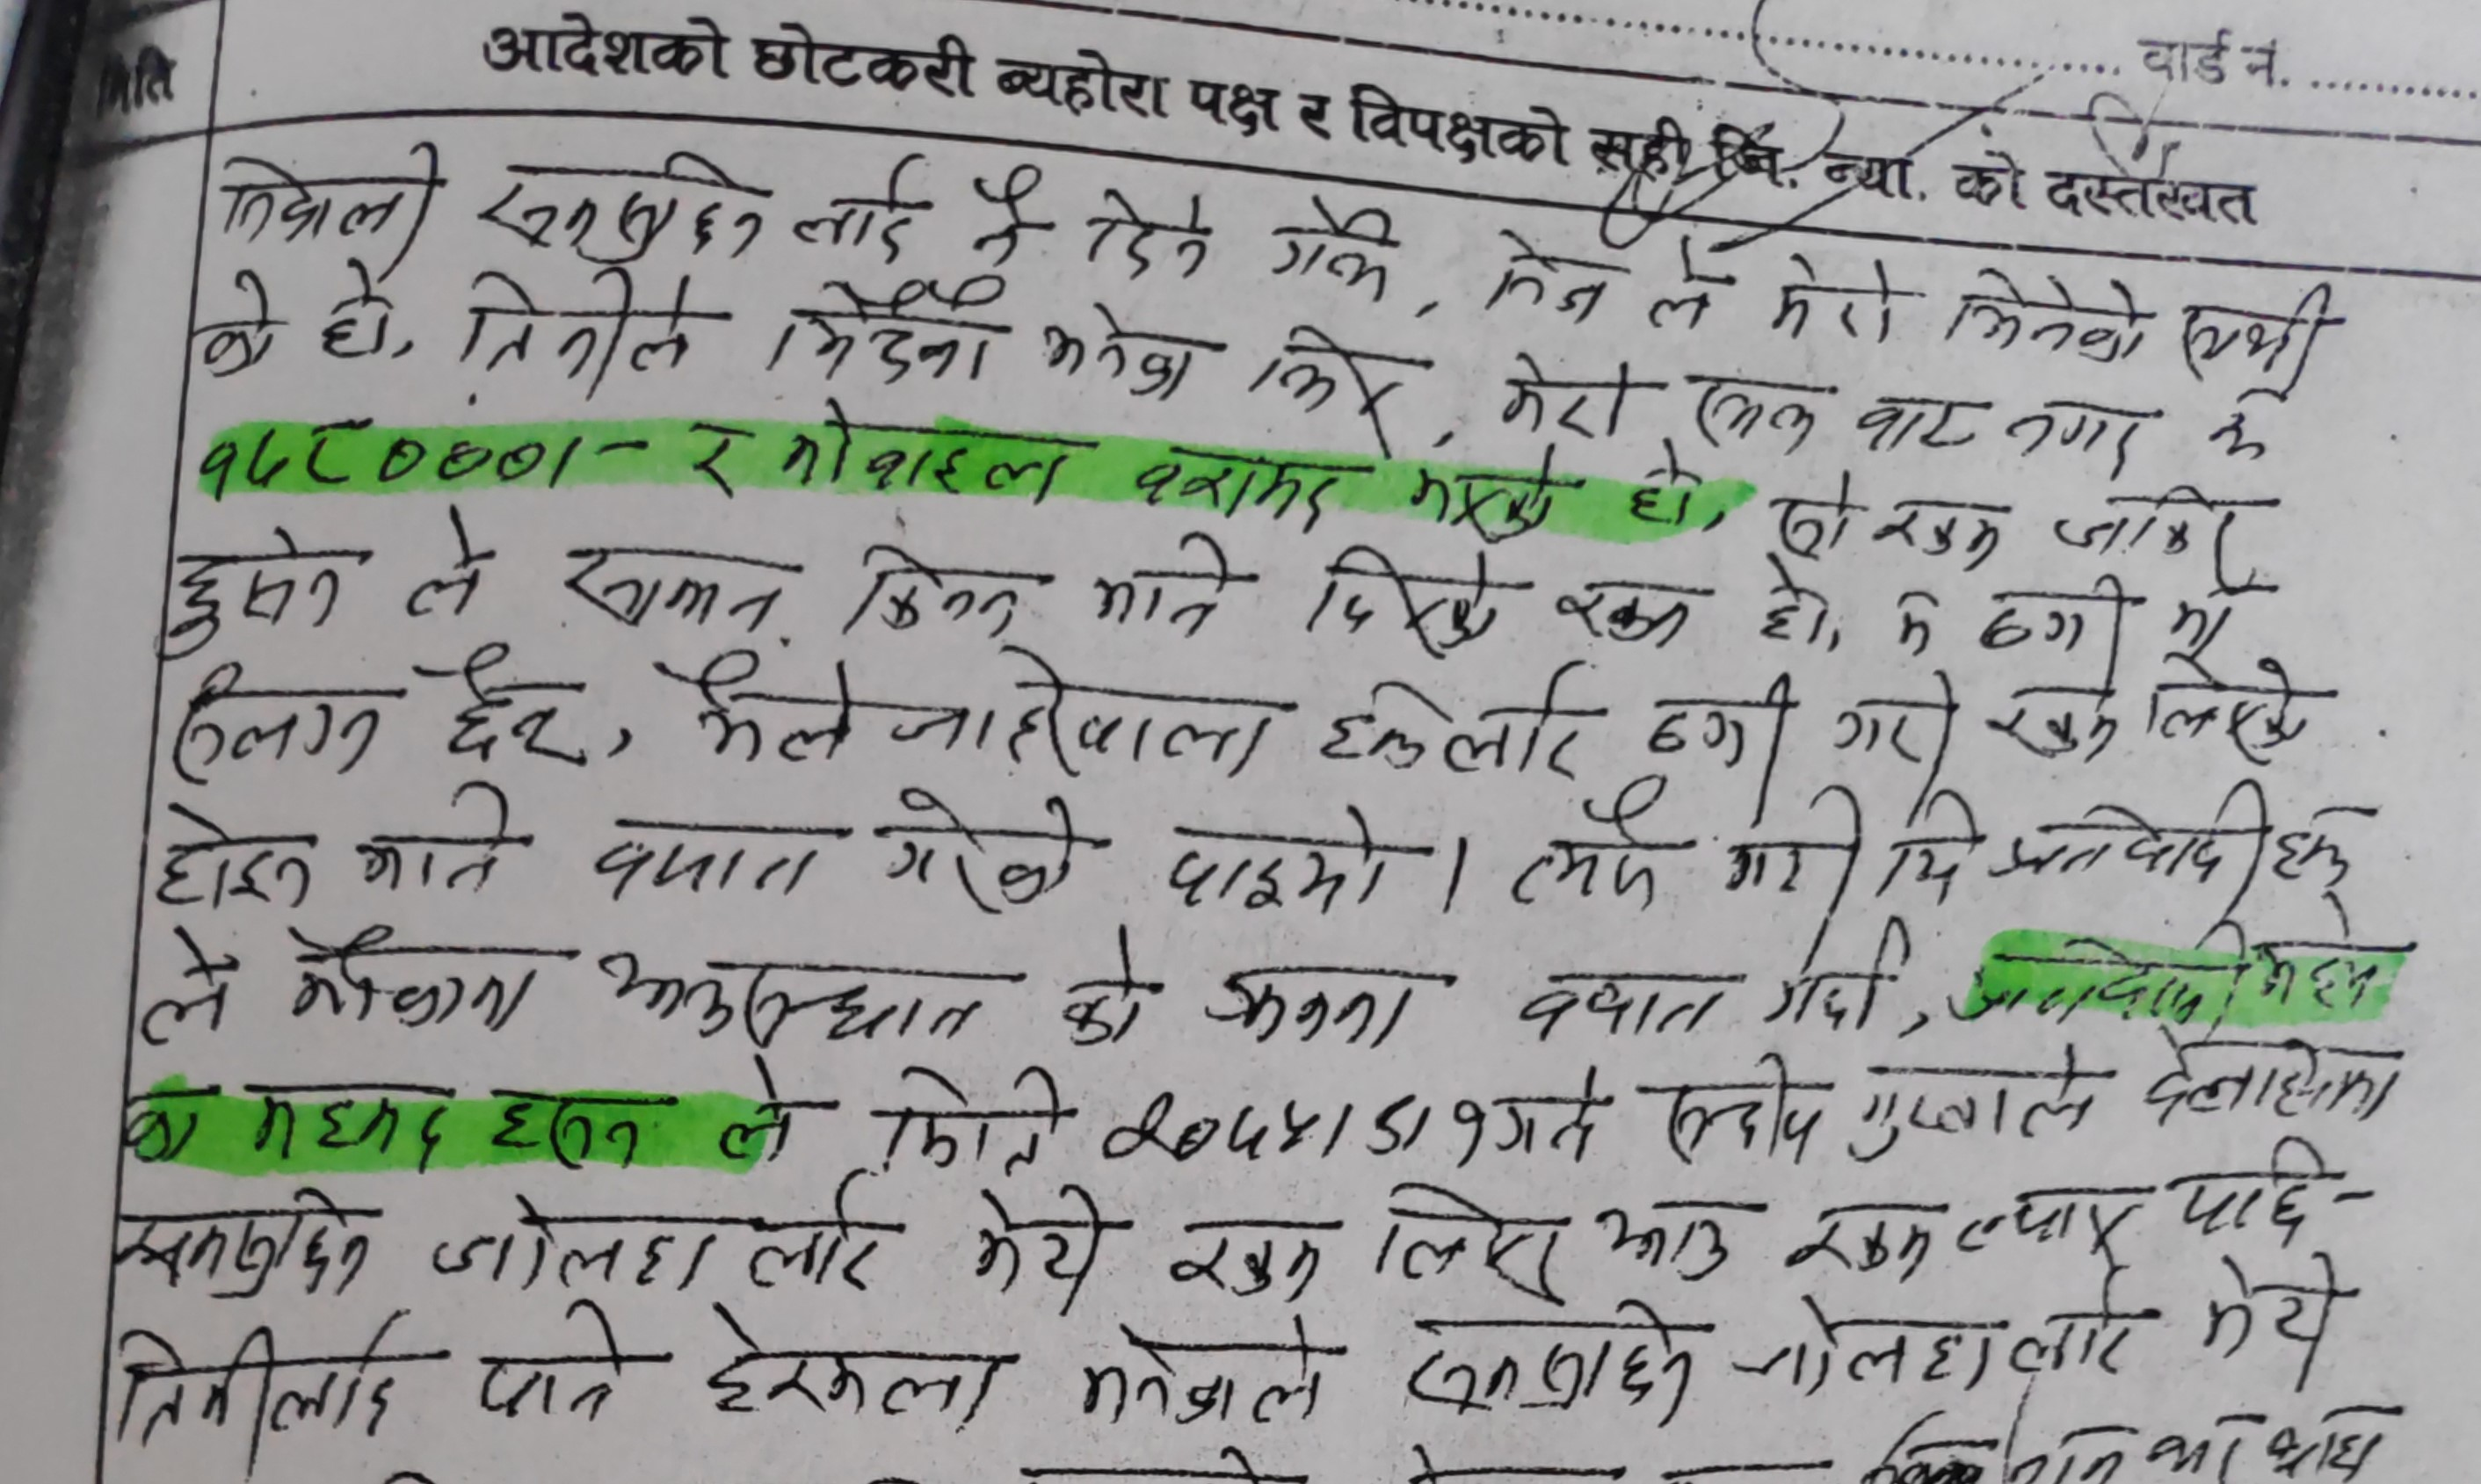text: (880, 652, 1283, 786), (428, 1194, 899, 1298), (693, 1290, 1014, 1438), (1997, 776, 2371, 903), (108, 1320, 410, 1463), (601, 947, 1000, 1053), (1403, 1302, 1703, 1435), (1101, 1076, 1495, 1177), (198, 405, 551, 505), (1069, 1304, 1343, 1433), (776, 394, 1074, 511), (1947, 922, 2244, 1039), (120, 1185, 392, 1313), (1318, 659, 1592, 783), (1838, 1030, 2099, 1159), (459, 256, 702, 392), (2145, 1016, 2421, 1134), (479, 148, 767, 260), (1728, 1284, 2002, 1397), (272, 926, 555, 1032), (875, 788, 1087, 922), (168, 661, 391, 788), (1157, 802, 1391, 922), (1371, 1171, 1576, 1306), (212, 138, 444, 251), (762, 274, 995, 385), (1304, 535, 1502, 664), (1502, 768, 1675, 915), (585, 809, 825, 913), (1200, 954, 1442, 1056), (1650, 1039, 1825, 1178), (550, 535, 783, 640), (663, 645, 859, 767), (171, 526, 353, 655), (875, 1053, 1069, 1173), (424, 647, 599, 776), (2191, 1244, 2348, 1387), (228, 1079, 467, 1173), (468, 1297, 643, 1424), (1942, 265, 2152, 364), (841, 541, 1037, 647), (1126, 436, 1343, 530), (1718, 790, 1875, 919), (1509, 959, 1726, 1051), (2166, 1131, 2331, 1251), (1036, 291, 1207, 406), (353, 779, 516, 899), (961, 1180, 1112, 1309), (2142, 652, 2315, 763), (2168, 272, 2343, 380), (154, 800, 316, 915), (1949, 1171, 2131, 1272), (2255, 892, 2398, 1019), (1159, 1208, 1347, 1306), (1087, 523, 1237, 643), (2050, 475, 2248, 565), (1829, 655, 1965, 783), (1772, 1185, 1940, 1288), (1490, 339, 1643, 451), (1643, 670, 1804, 776), (1405, 436, 1566, 541), (1253, 318, 1410, 424), (2002, 1274, 2145, 1389), (481, 1086, 659, 1177), (1760, 240, 1910, 346), (1979, 572, 2140, 671), (1263, 189, 1403, 302), (1074, 177, 1214, 288), (1767, 924, 1910, 1032), (795, 150, 922, 265), (700, 1053, 820, 1171), (138, 927, 249, 1053), (1589, 1192, 1746, 1281), (1488, 226, 1627, 325), (1875, 783, 1979, 913), (1051, 938, 1172, 1051), (1553, 565, 1702, 655), (2002, 385, 2152, 473), (1679, 369, 1831, 456), (1979, 677, 2122, 767), (1495, 1056, 1605, 1171), (401, 503, 497, 631), (1870, 486, 2011, 565), (961, 161, 1053, 277), (1854, 380, 1977, 465), (1647, 228, 1742, 334), (311, 251, 392, 371), (201, 267, 285, 383), (1622, 442, 1712, 537), (2159, 574, 2258, 661), (1764, 473, 1859, 562), (1756, 556, 1838, 659), (671, 412, 760, 505), (2204, 380, 2278, 466), (1889, 581, 1947, 655)
